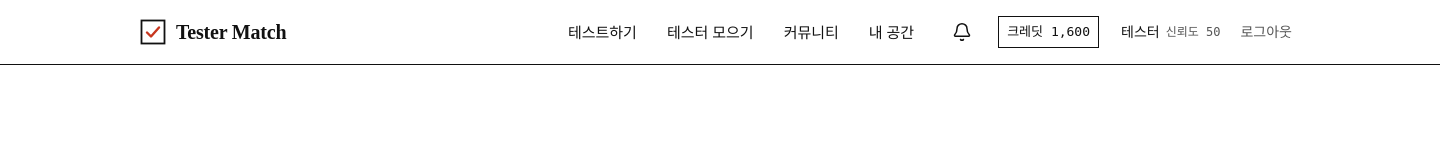
Test: SiteHeader › opens the second-level row under the header on hover
Hover over the link "테스터 모으기".
mouse_move(710, 32)  # box top-left (667, 22), bottom-right (754, 42)
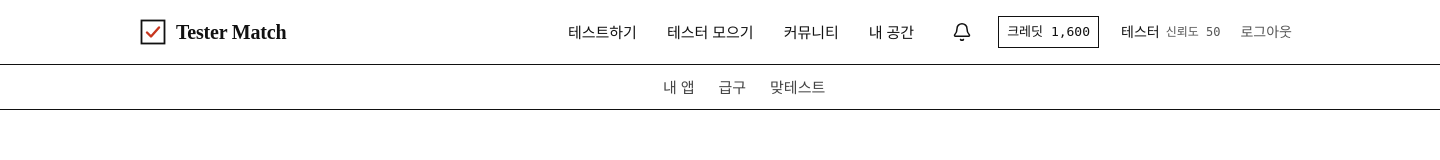
Check: the link "맞테스트" is shown, box top-left (770, 77), bottom-right (825, 97)
